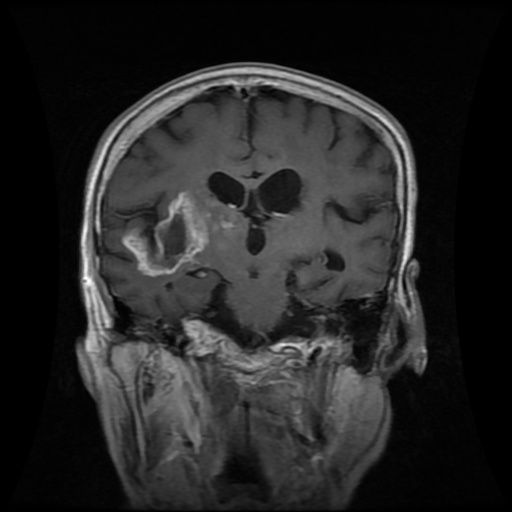glioma: (123, 189, 238, 277)
